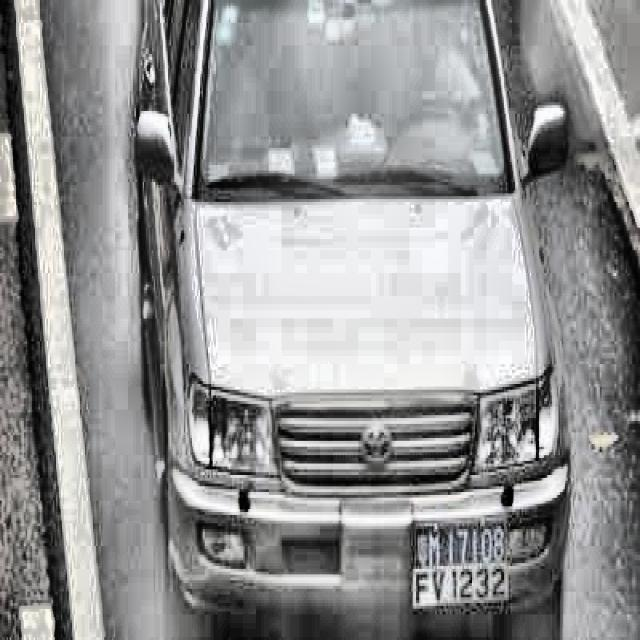license_plate: (413, 525, 510, 614)
